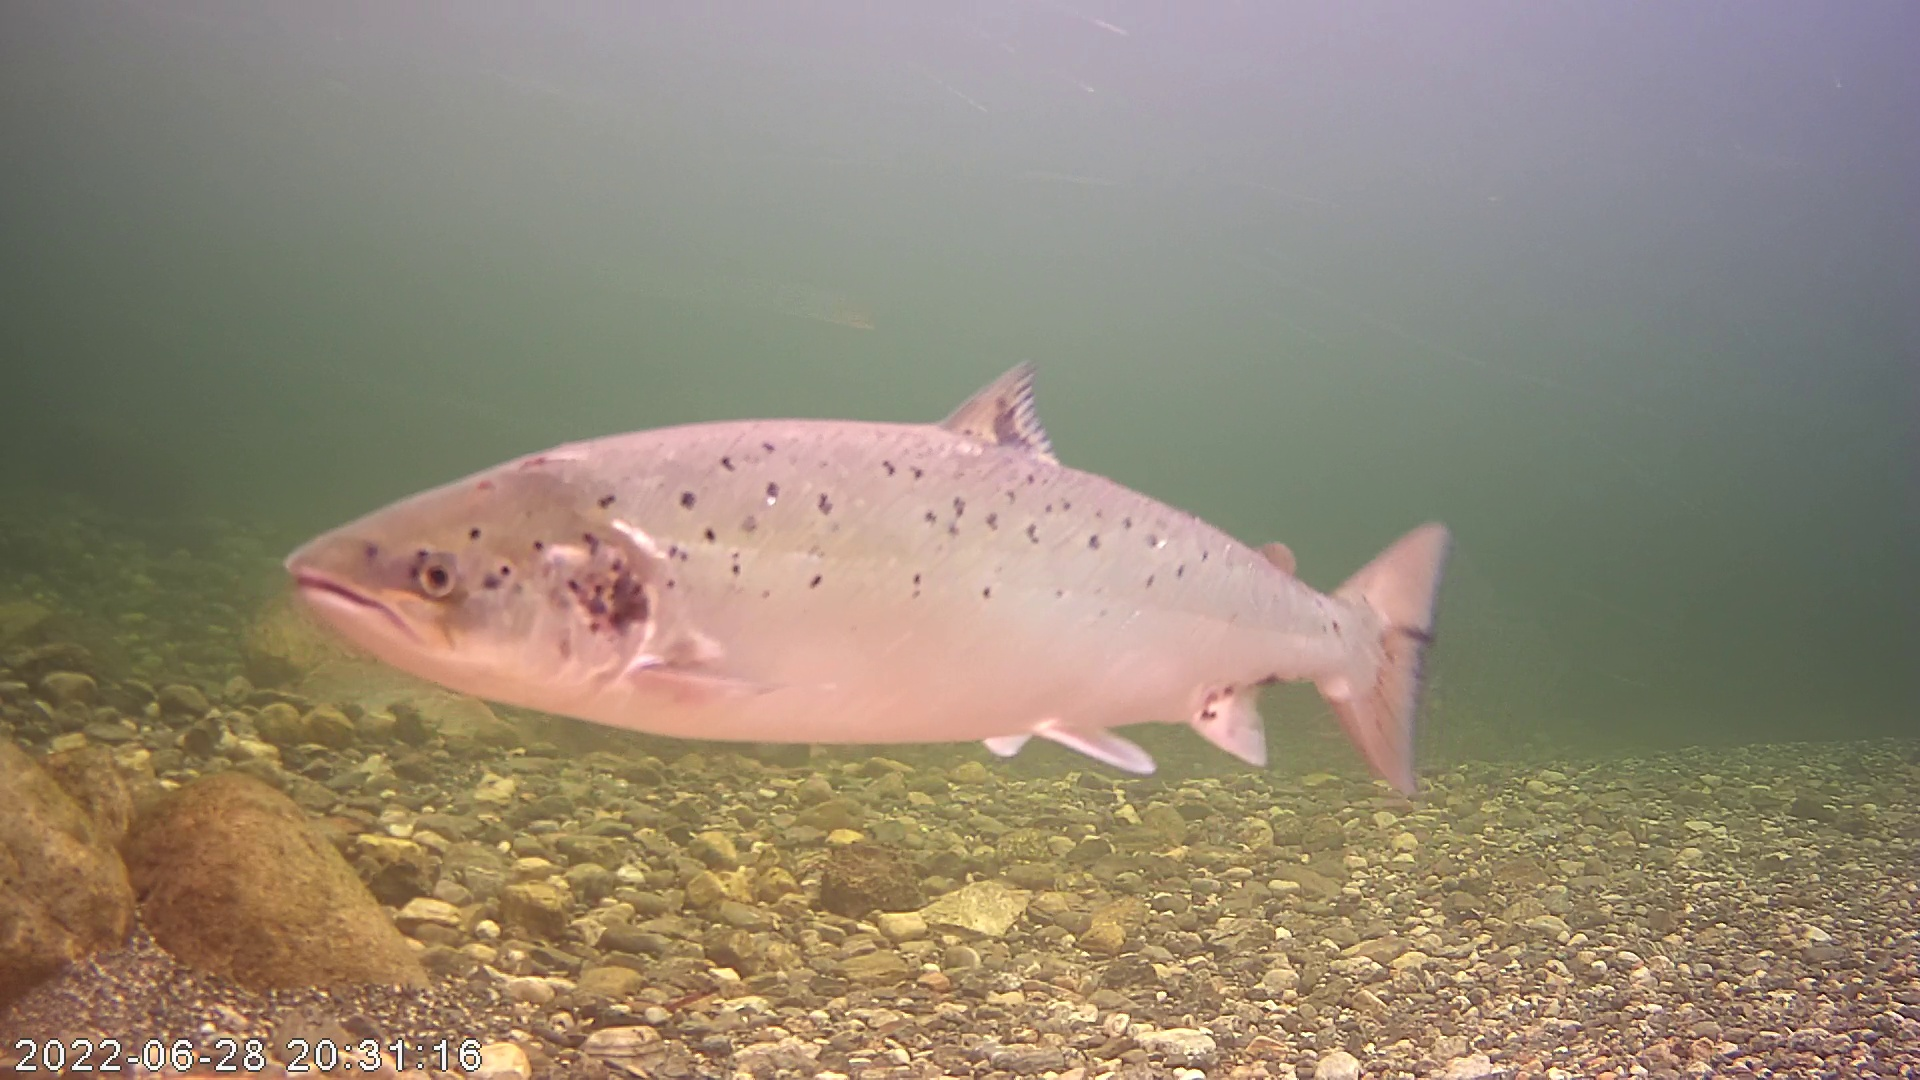salmon: (278, 273, 1390, 753)
